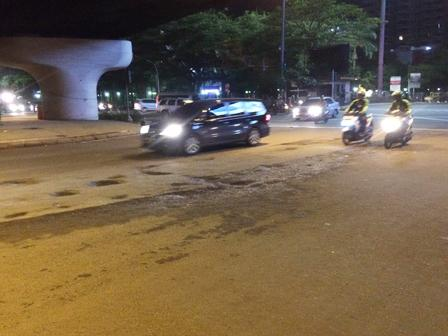Pothole: (205, 147, 335, 195), (149, 177, 295, 204), (280, 141, 401, 167), (0, 152, 51, 202), (82, 167, 141, 194), (0, 198, 38, 237), (134, 148, 172, 185), (191, 147, 232, 174), (44, 169, 76, 197), (106, 183, 130, 215), (46, 205, 78, 221)
